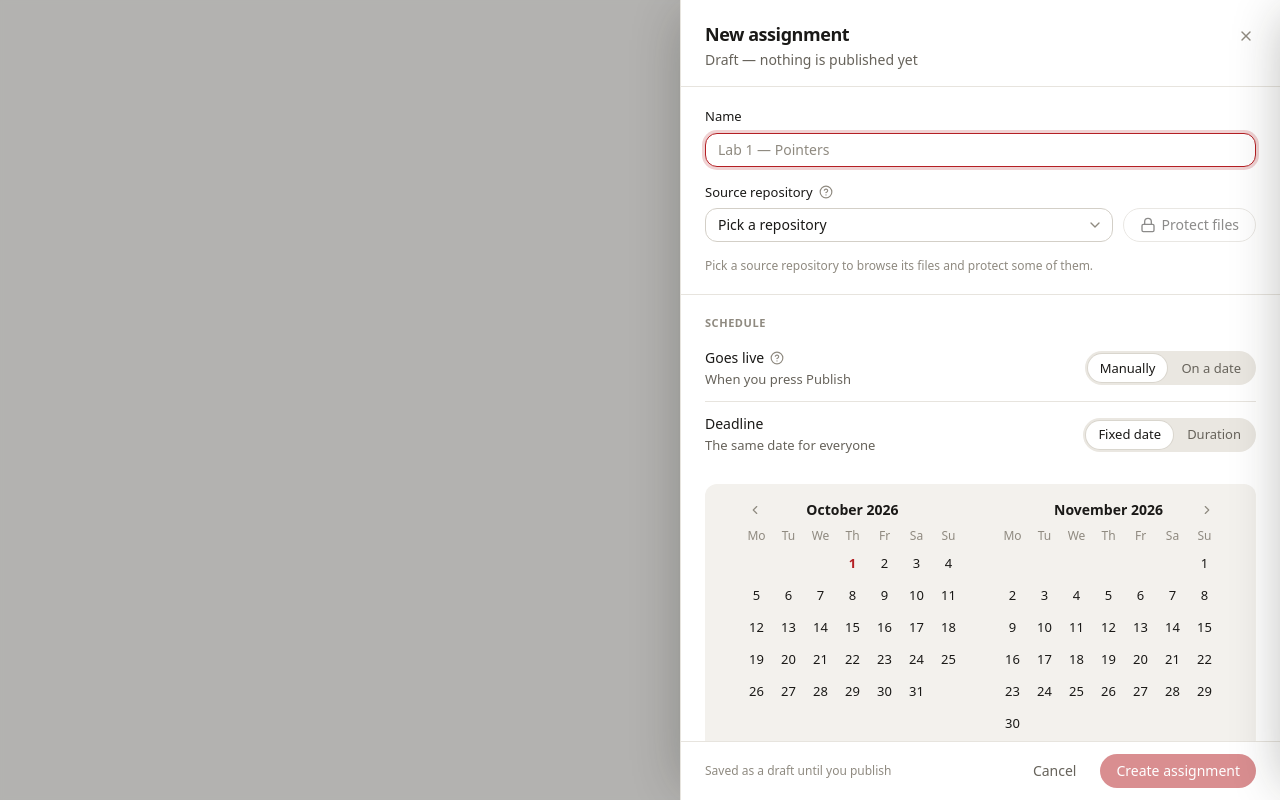
Test: AssignmentForm publication mode › shows the deadline shape only while the publication is manual
The width and height of the screenshot is (1280, 800).
Select "labo-02-quadratic" in the dropdown labelled "Source repository": (909, 225) [705, 208, 1112, 242]
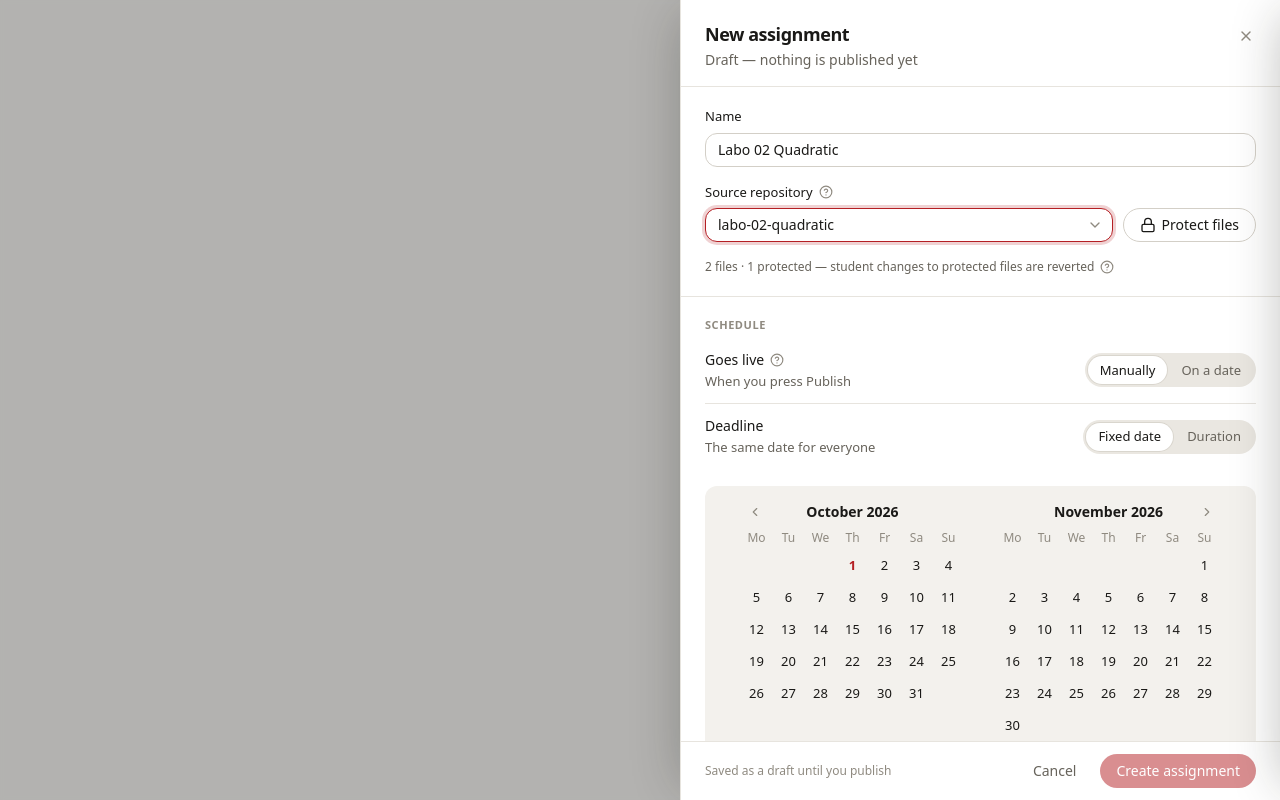
Check: the radio button labelled "Fixed date" is checked, box [1086, 423, 1173, 451]
Check: the text "2 files · 1 protected" is shown, box [705, 258, 1116, 276]
Click the radio button labelled "On a date": (1211, 370) [1181, 360, 1241, 378]
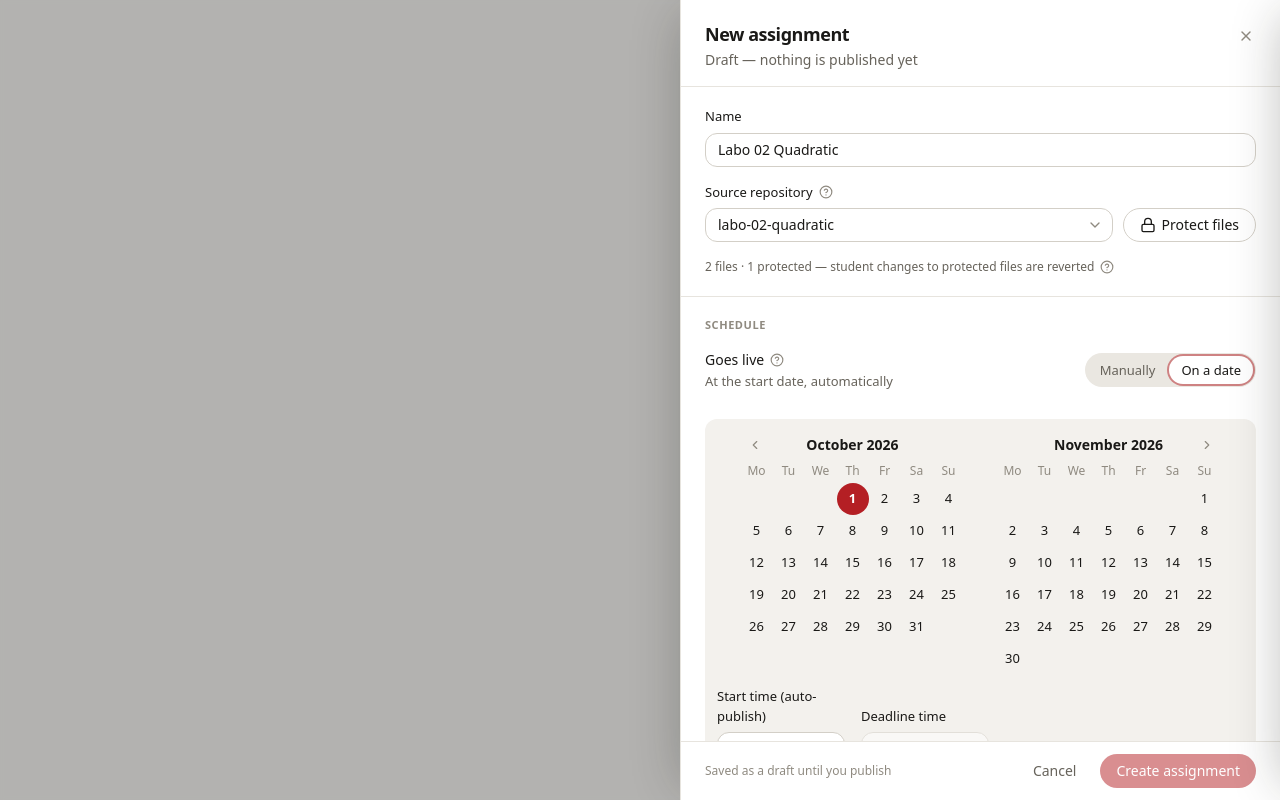
Check: the radio button labelled "Fixed date" is gone
Check: the text "At the start date, automatically" is shown, box [705, 372, 893, 390]
